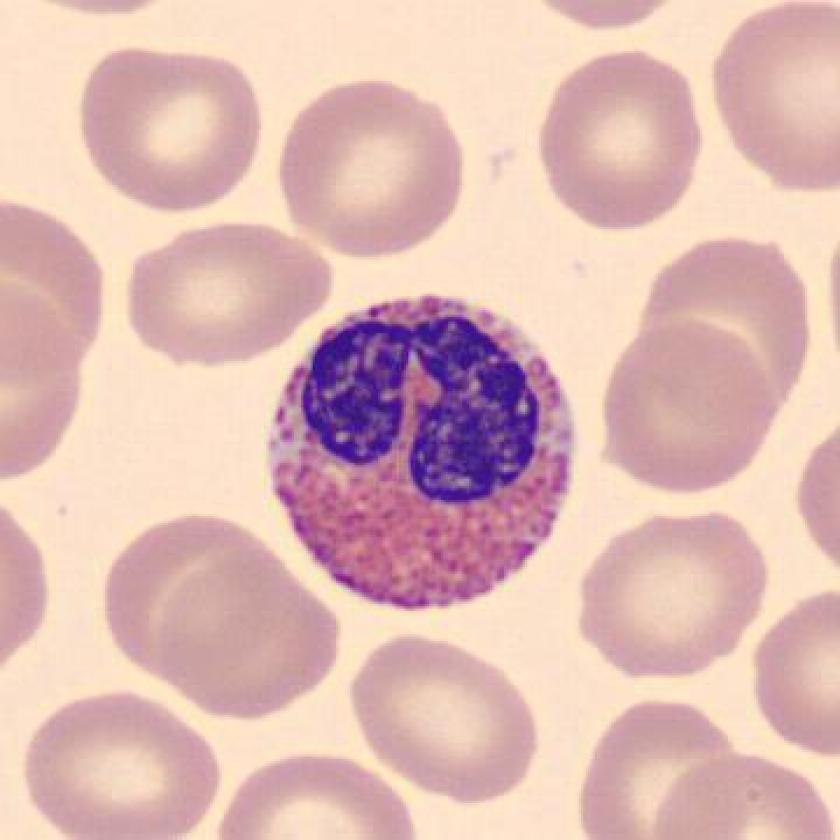eosinophil: (255, 286, 580, 621)
